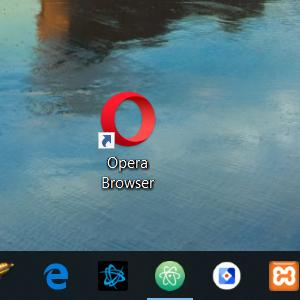opera: (98, 91, 157, 150)
